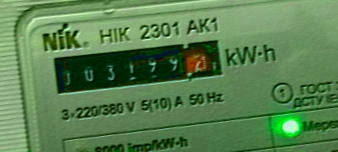0: (58, 66, 73, 88), (81, 62, 96, 84)
1: (124, 56, 137, 76)
3: (103, 62, 117, 82)
6: (192, 57, 204, 75)
9: (145, 53, 159, 75), (166, 52, 180, 73)
screen: (45, 28, 233, 109)
